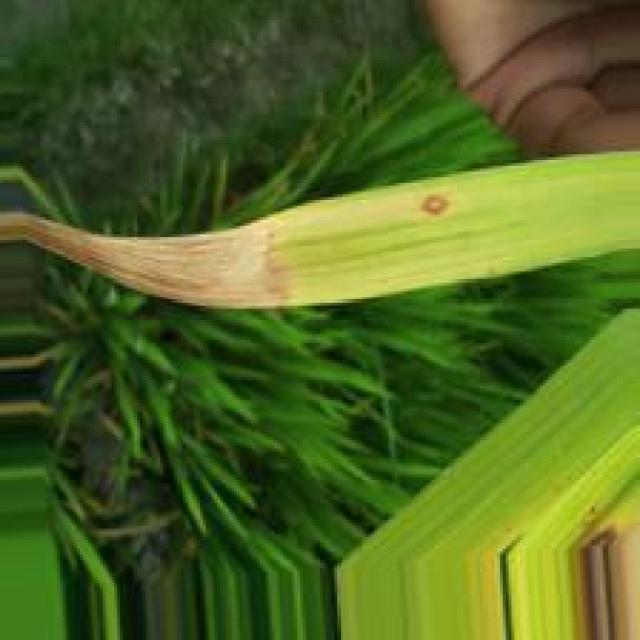Rice False Smut: (5, 214, 298, 307), (419, 192, 454, 223)
